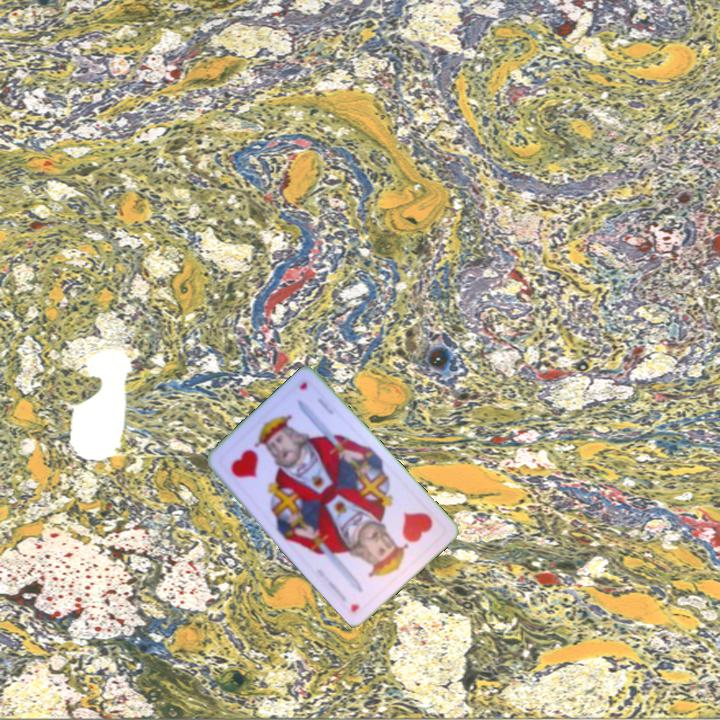h_k.png: (213, 417, 300, 503), (362, 489, 448, 575)
